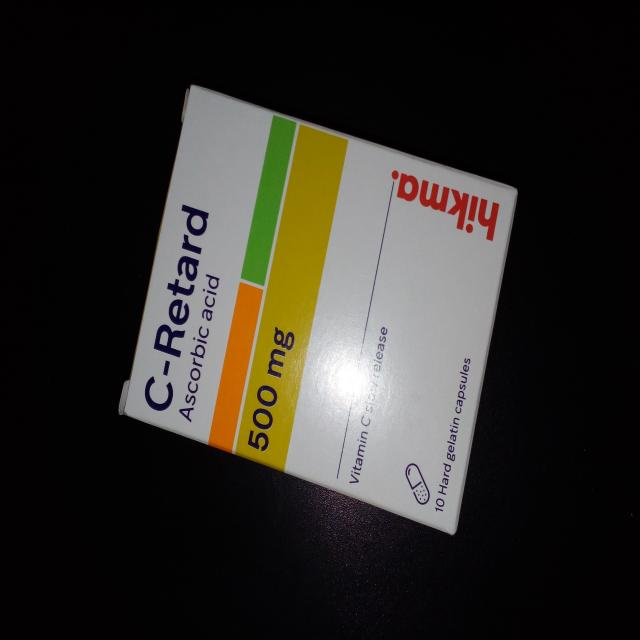C-Retard: (119, 70, 531, 560)
